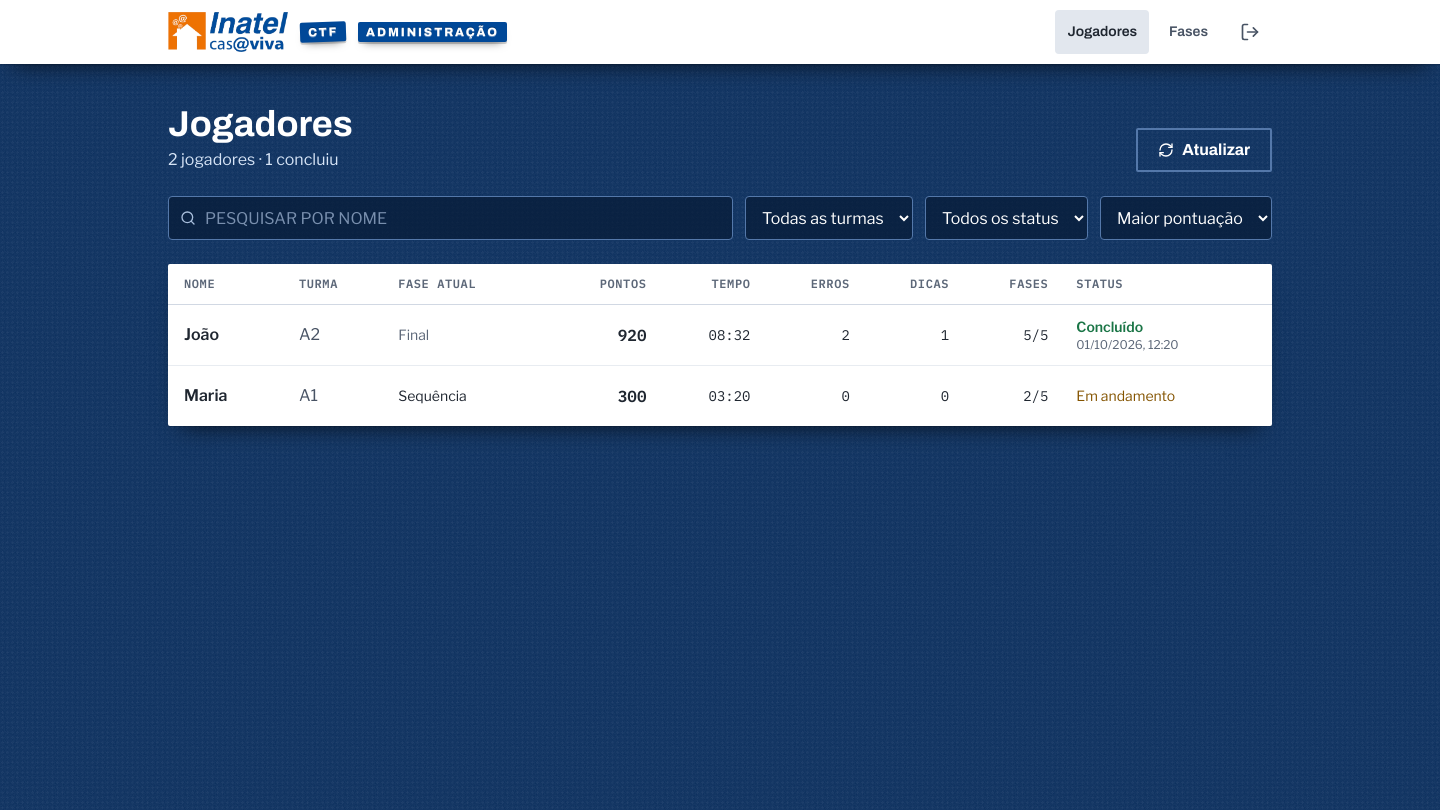
Test case: admin area › only resets an attempt after an explicit confirmation
Click the button "João": [227, 335] box [184, 313, 271, 357]
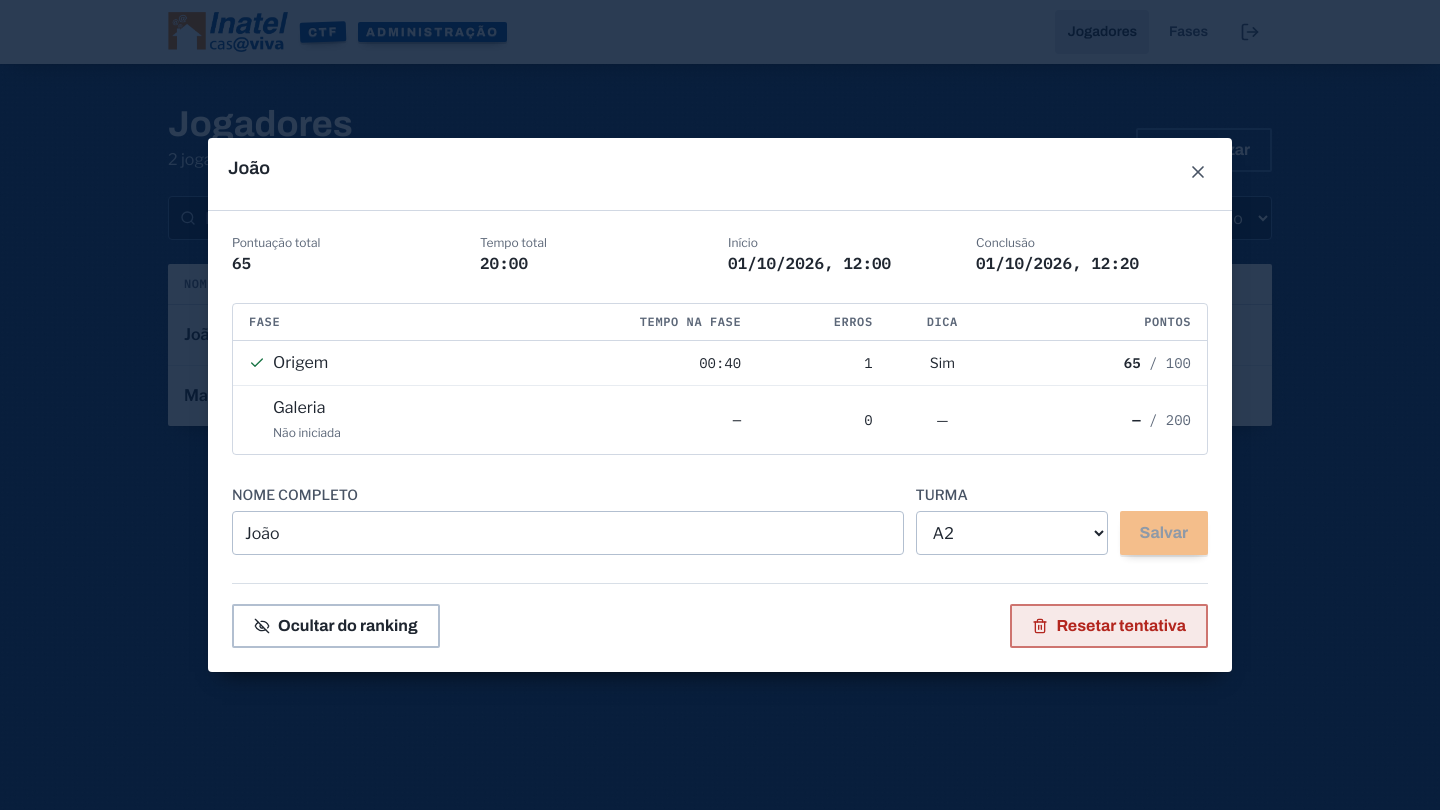
Click the button "Resetar tentativa": [1109, 626] box [1010, 604, 1208, 648]
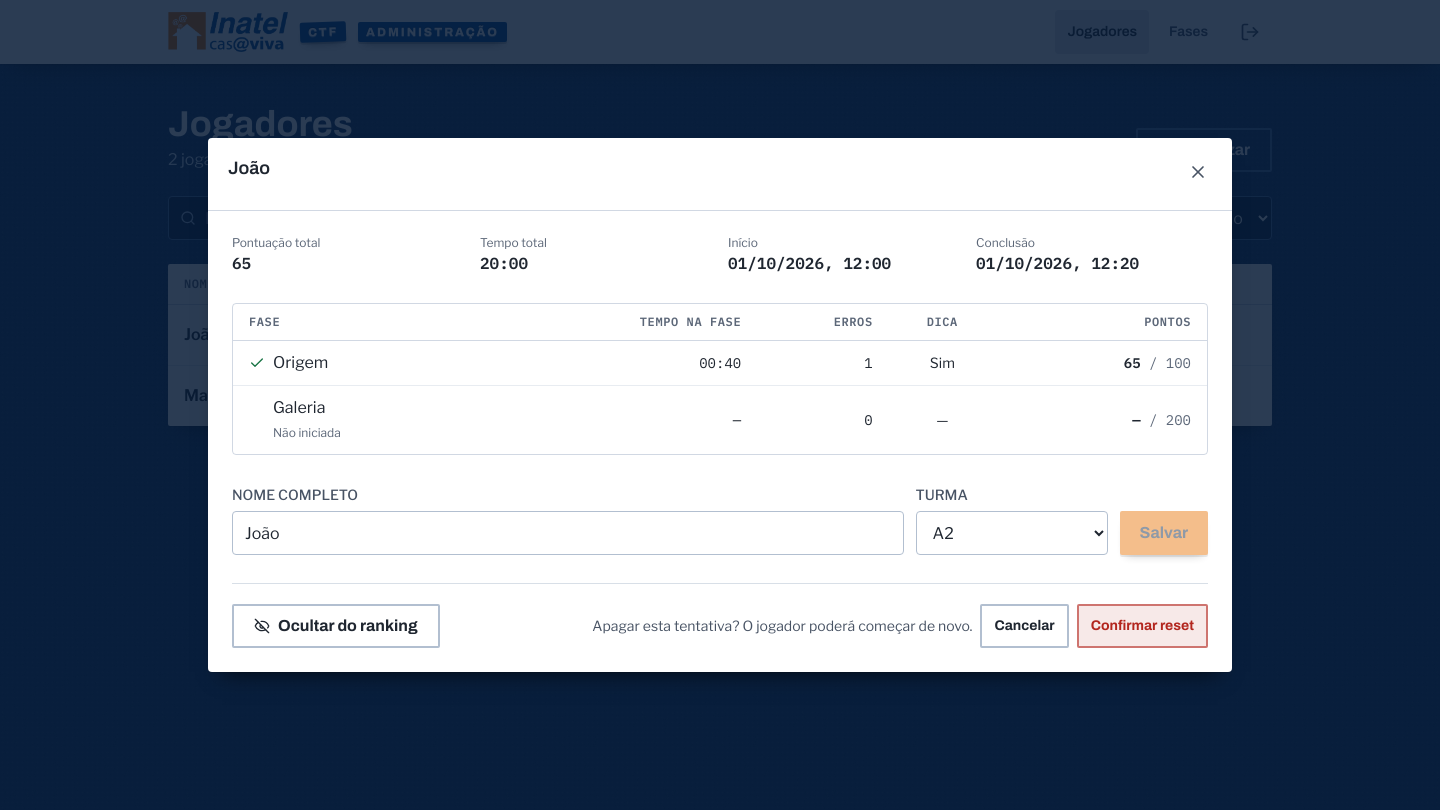
Cancelling keeps the attempt
Click the button "Cancelar": [1025, 626] box [980, 604, 1069, 648]
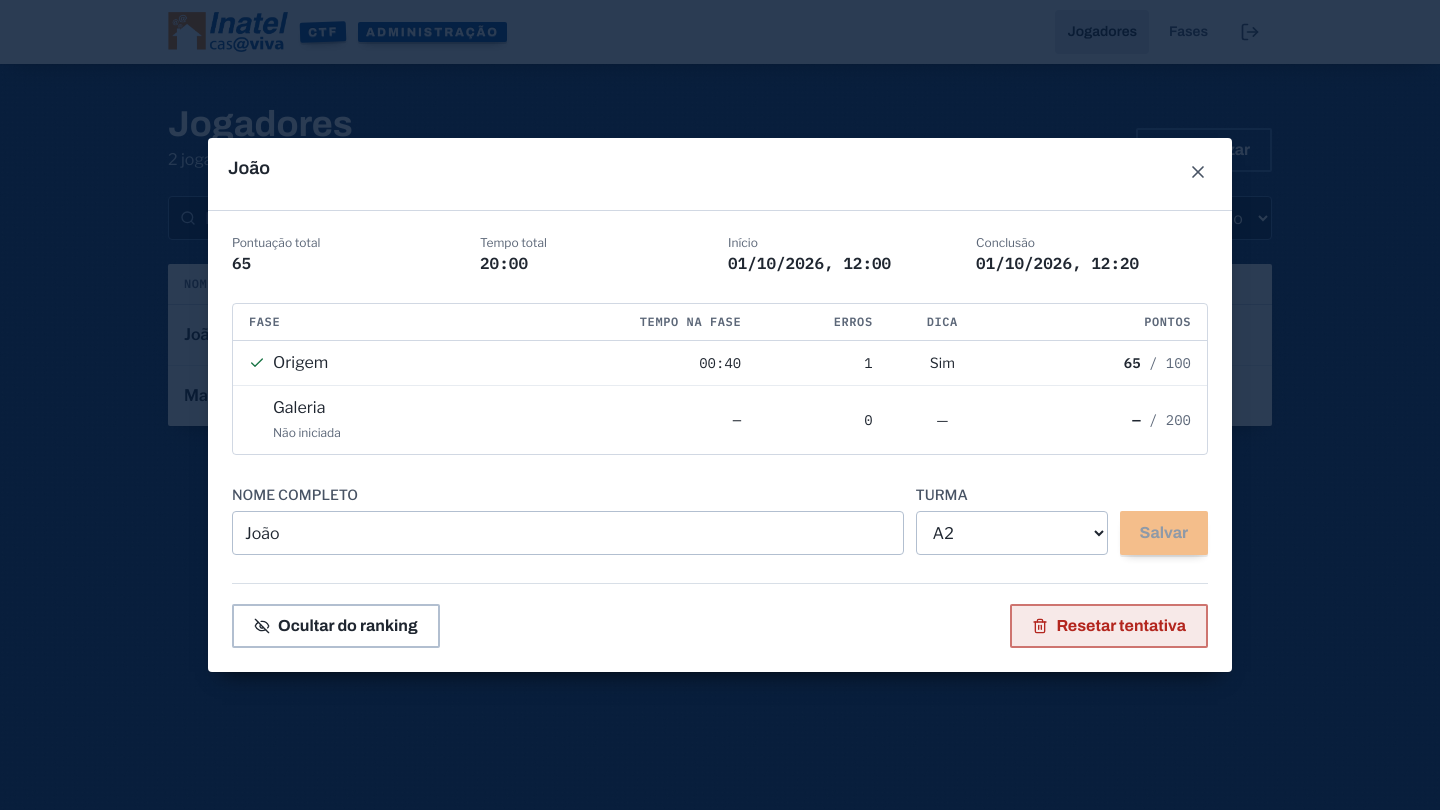
Click the button "Resetar tentativa": [1109, 626] box [1010, 604, 1208, 648]
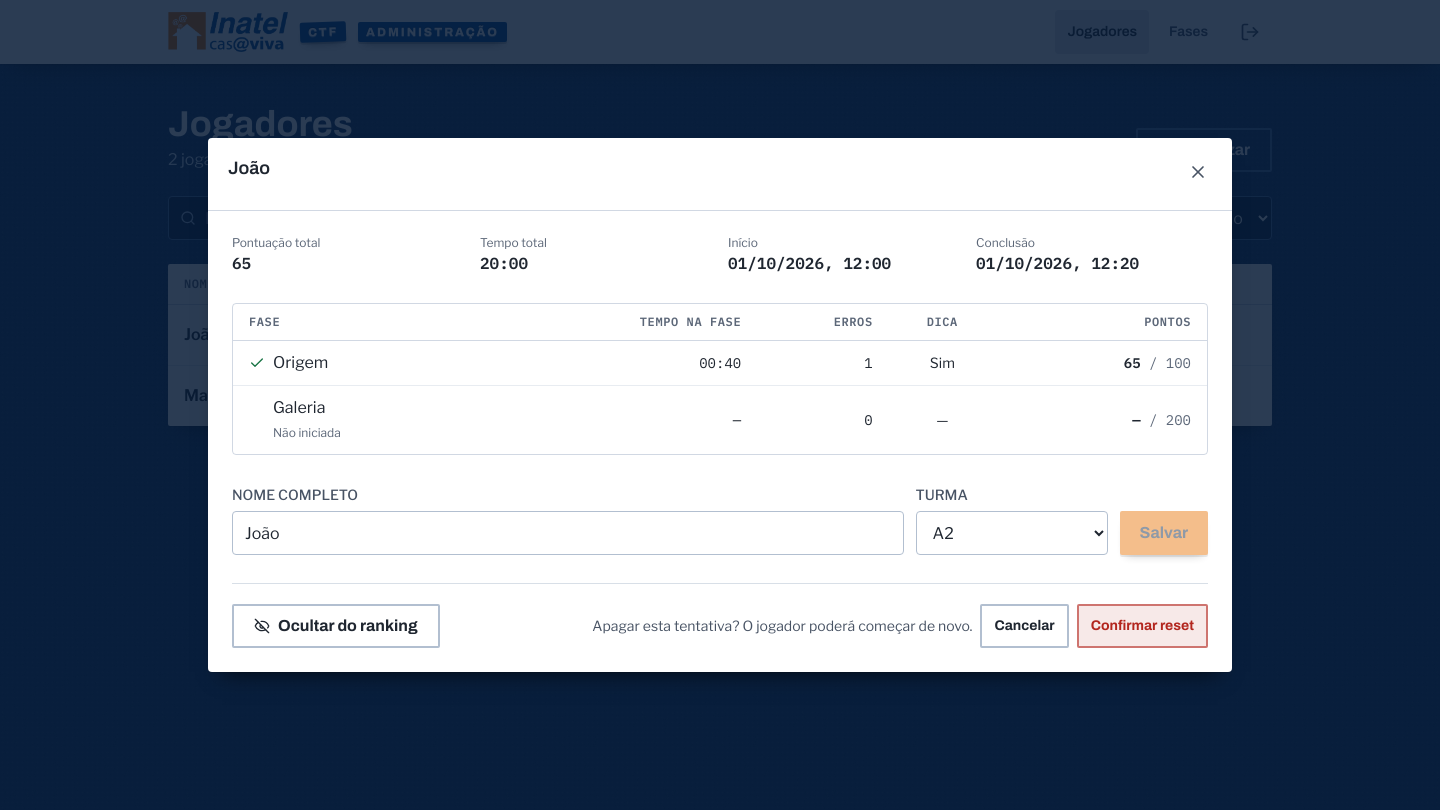
Click the button "Confirmar reset": [1142, 626] box [1077, 604, 1208, 648]
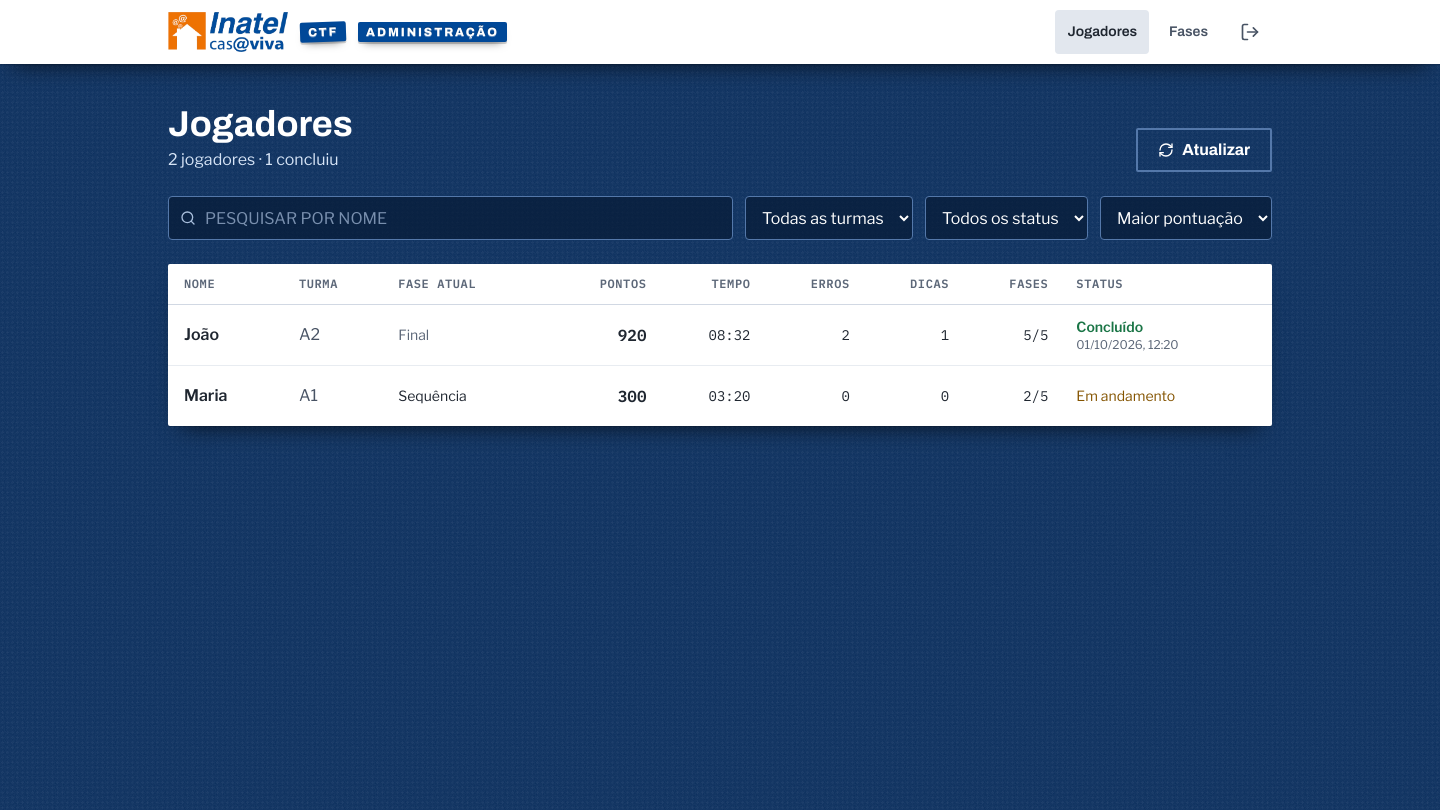
Expected: the dialog is gone
